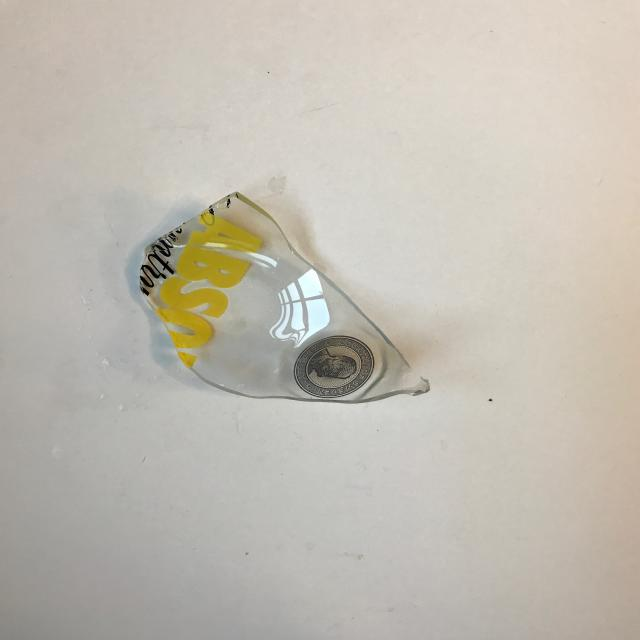glass: (138, 190, 431, 404)
